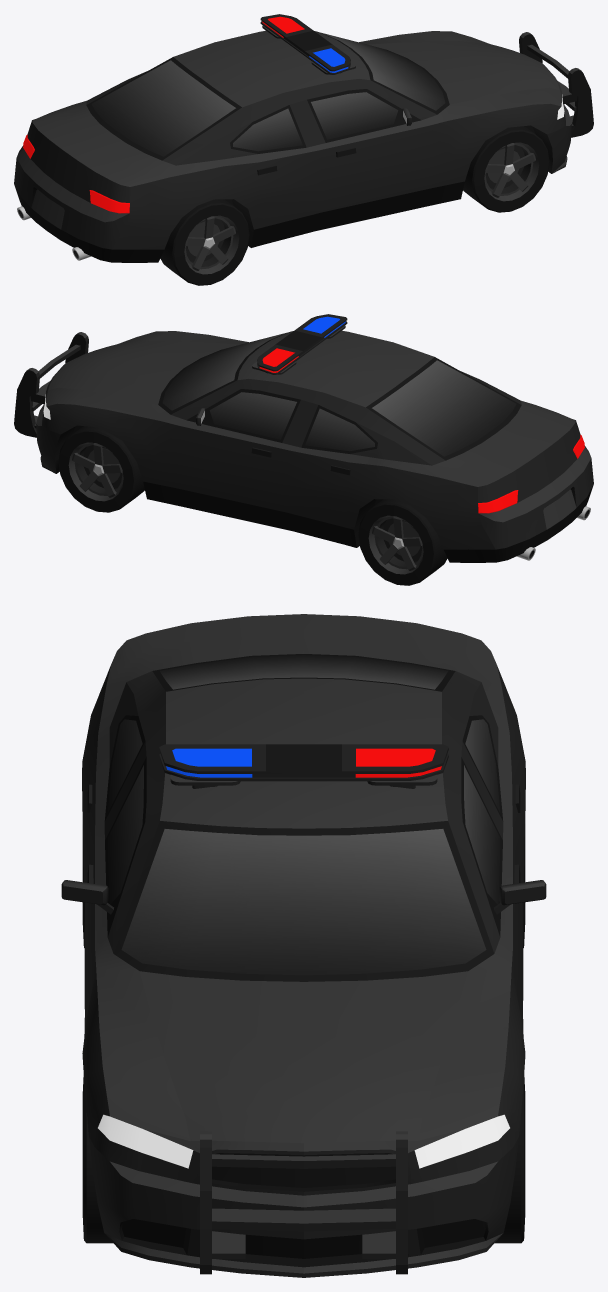
File: Emergency_023.glb
The picture shows the model from 3 angles, top to bottom: view 1: azimuth 30°, elevation 25°; view 2: azimuth 150°, elevation 25°; view 3: azimuth 270°, elevation 25°; orthographic projection. The views are drawn at different scales.
Parts seen in each view (by area): view 1: Emergency_023, wheel_3_Emergency_023_Wheel_2R, wheel_1_Emergency_023_Wheel_1R; view 2: Emergency_023, wheel_2_Emergency_023_Wheel_2L, wheel_0_Emergency_023_Wheel_1L; view 3: Emergency_023, wheel_0_Emergency_023_Wheel_1L, wheel_1_Emergency_023_Wheel_1R.
Part boxes in pixels (x1,y1,x2,y2): Emergency_023: (14, 14, 593, 262); wheel_3_Emergency_023_Wheel_2R: (160, 199, 249, 285); wheel_1_Emergency_023_Wheel_1R: (463, 126, 549, 212); Emergency_023: (14, 314, 593, 562); wheel_2_Emergency_023_Wheel_2L: (358, 499, 447, 585); wheel_0_Emergency_023_Wheel_1L: (58, 426, 144, 512); Emergency_023: (61, 614, 546, 1277); wheel_0_Emergency_023_Wheel_1L: (495, 1075, 525, 1243); wheel_1_Emergency_023_Wheel_1R: (82, 1075, 112, 1243).
Bounding box in the file's own units: 5.05 × 1.54 × 2.02.
Materials: 3 (3 with a texture image).
